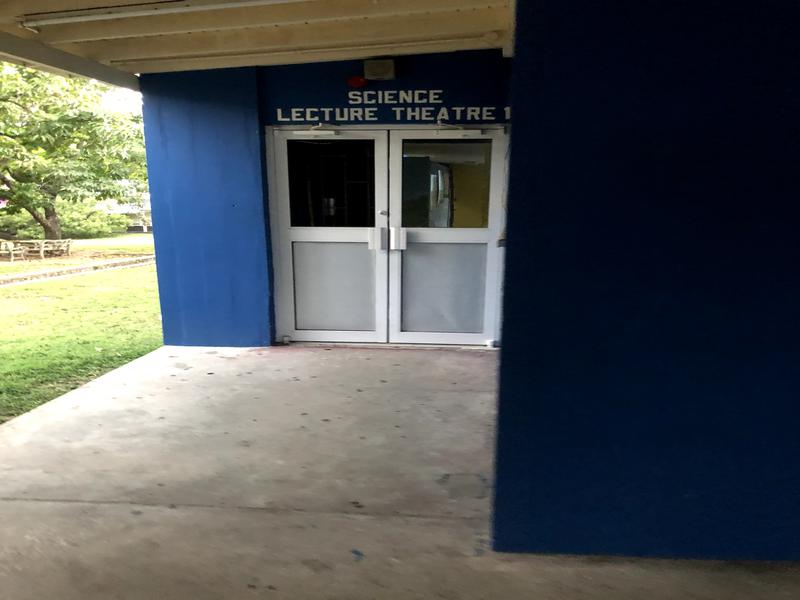18.0051836_-76.7497262_pclt1: (245, 82, 529, 370)
